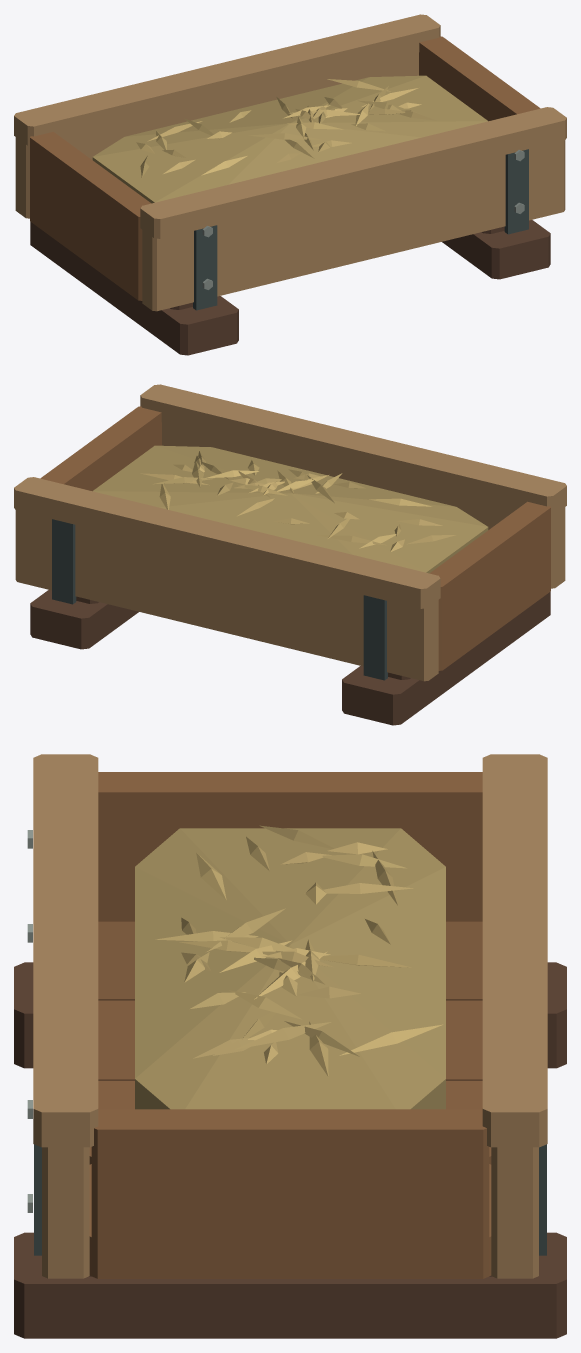
File: feed_bench.glb
The picture shows the model from 3 angles, top to bottom: view 1: azimuth 30°, elevation 25°; view 2: azimuth 150°, elevation 25°; view 3: azimuth 270°, elevation 25°; orthographic projection. The views are drawn at different scales.
Visible parts, largest first — view 1: geometry, hay; view 2: geometry, hay; view 3: geometry, hay.
Boxes of the visible parts, bbox=[...] form: geometry: bbox=[14, 14, 566, 355]; hay: bbox=[92, 75, 487, 203]; geometry: bbox=[14, 384, 566, 725]; hay: bbox=[93, 445, 488, 573]; geometry: bbox=[14, 754, 566, 1338]; hay: bbox=[135, 825, 445, 1109].
Size of the model in its own units: 0.98 by 0.3128 by 0.64.
